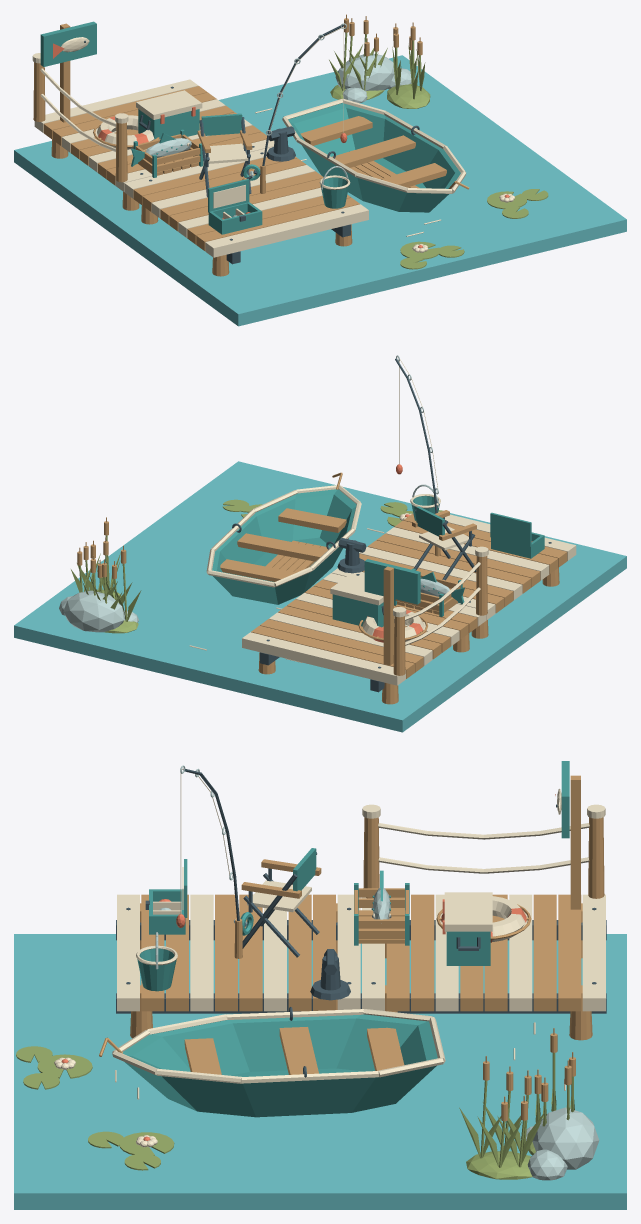
The picture shows the model from 3 angles, top to bottom: view 1: azimuth 30°, elevation 25°; view 2: azimuth 150°, elevation 25°; view 3: azimuth 270°, elevation 25°; orthographic projection. The views are drawn at different scales.
Visible parts, largest first — view 1: 000-lake-tile/water, 002-dock-platform/wood, 011-rowboat/teal, 002-dock-platform/cream, 001-dock-platform/wood, 011-rowboat/wood, 001-dock-platform/cream, 011-rowboat/cream, 017-shore-rocks/silver, 007-tackle-box/teal, 004-fishing-sign/teal, 016-reed-clump/reed (+18 smaller); view 2: 000-lake-tile/water, 011-rowboat/teal, 001-dock-platform/wood, 002-dock-platform/wood, 001-dock-platform/cream, 011-rowboat/wood, 002-dock-platform/cream, 017-shore-rocks/silver, 011-rowboat/cream, 007-tackle-box/teal, 004-fishing-sign/teal, 003-dock-railing/wood (+10 smaller); view 3: 000-lake-tile/water, 011-rowboat/teal, 001-dock-platform/wood, 002-dock-platform/wood, 002-dock-platform/cream, 001-dock-platform/cream, 011-rowboat/cream, 011-rowboat/wood, 017-shore-rocks/silver, 016-reed-clump/reed, 003-dock-railing/cream, 003-dock-railing/wood (+21 smaller).
Part boxes in pixels (x1,y1,x2,y2): 000-lake-tile/water: [14, 55, 626, 326]; 002-dock-platform/wood: [133, 156, 359, 276]; 011-rowboat/teal: [288, 103, 460, 212]; 002-dock-platform/cream: [124, 146, 368, 257]; 001-dock-platform/wood: [43, 86, 266, 210]; 011-rowboat/wood: [300, 116, 469, 189]; 001-dock-platform/cream: [34, 79, 274, 191]; 011-rowboat/cream: [282, 99, 466, 193]; 017-shore-rocks/silver: [335, 53, 414, 102]; 007-tackle-box/teal: [208, 179, 262, 234]; 004-fishing-sign/teal: [40, 21, 96, 66]; 016-reed-clump/reed: [387, 40, 430, 108]; 000-lake-tile/water: [14, 461, 626, 732]; 011-rowboat/teal: [212, 489, 356, 604]; 001-dock-platform/wood: [251, 579, 477, 704]; 002-dock-platform/wood: [359, 514, 567, 638]; 001-dock-platform/cream: [242, 573, 486, 685]; 011-rowboat/wood: [220, 472, 346, 581]; 002-dock-platform/cream: [332, 511, 576, 619]; 017-shore-rocks/silver: [59, 590, 138, 632]; 011-rowboat/cream: [206, 485, 361, 587]; 007-tackle-box/teal: [490, 512, 544, 558]; 004-fishing-sign/teal: [364, 559, 420, 604]; 003-dock-railing/wood: [393, 556, 487, 675]; 000-lake-tile/water: [14, 934, 626, 1209]; 011-rowboat/teal: [123, 1014, 437, 1117]; 001-dock-platform/wood: [385, 894, 592, 1040]; 002-dock-platform/wood: [130, 894, 337, 1038]; 002-dock-platform/cream: [117, 894, 360, 1011]; 001-dock-platform/cream: [362, 894, 605, 1011]; 011-rowboat/cream: [112, 1009, 445, 1083]; 011-rowboat/wood: [99, 1027, 404, 1074]; 017-shore-rocks/silver: [521, 1107, 599, 1180]; 016-reed-clump/reed: [459, 1080, 544, 1179]; 003-dock-railing/cream: [362, 804, 605, 873]; 003-dock-railing/wood: [363, 817, 604, 898].
Bounding box in the file's own units: 6 × 3.2 × 6.
